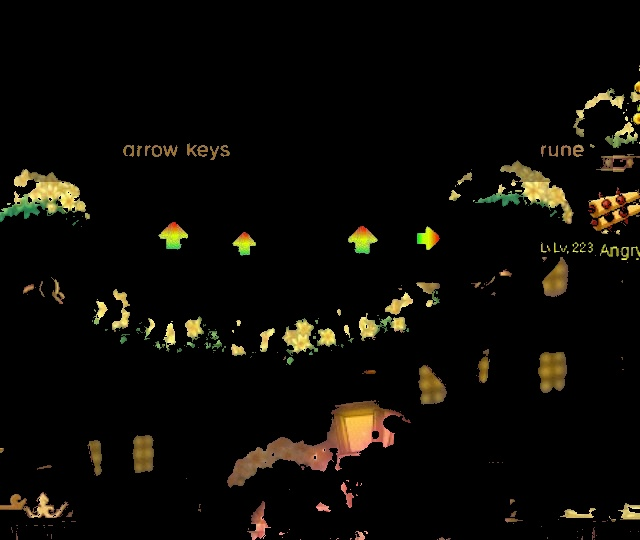right: (410, 222, 447, 256)
up: (344, 220, 386, 265), (155, 215, 194, 253), (226, 226, 261, 261)
